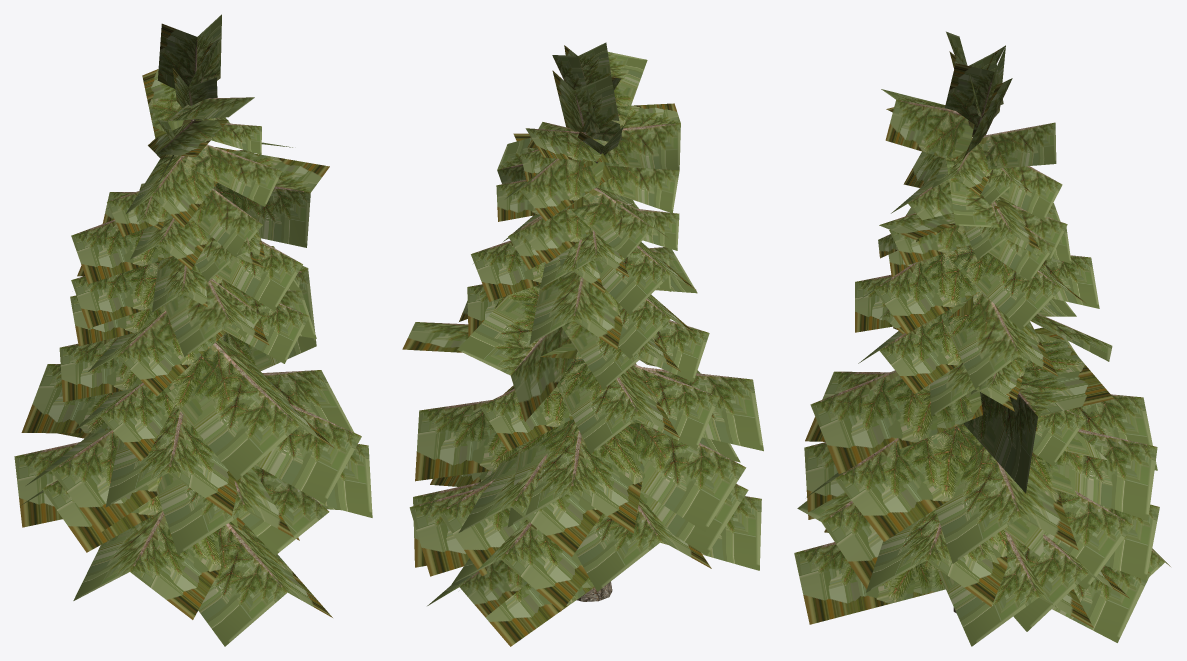
Rendered from tree.gltf.
The picture shows the model from 3 angles, left to right: view 1: azimuth 30°, elevation 25°; view 2: azimuth 150°, elevation 25°; view 3: azimuth 270°, elevation 25°; orthographic projection. The views are drawn at different scales.
Visible parts, largest first — view 1: PineTree; view 2: PineTree; view 3: PineTree.
Part boxes in pixels (x1,y1,x2,y2): PineTree: [14, 14, 372, 646]; PineTree: [402, 42, 763, 646]; PineTree: [794, 31, 1170, 646].
Bounding box in the file's own units: 0.2558 × 0.4487 × 0.2647.
Materials: 1 (1 with a texture image).
